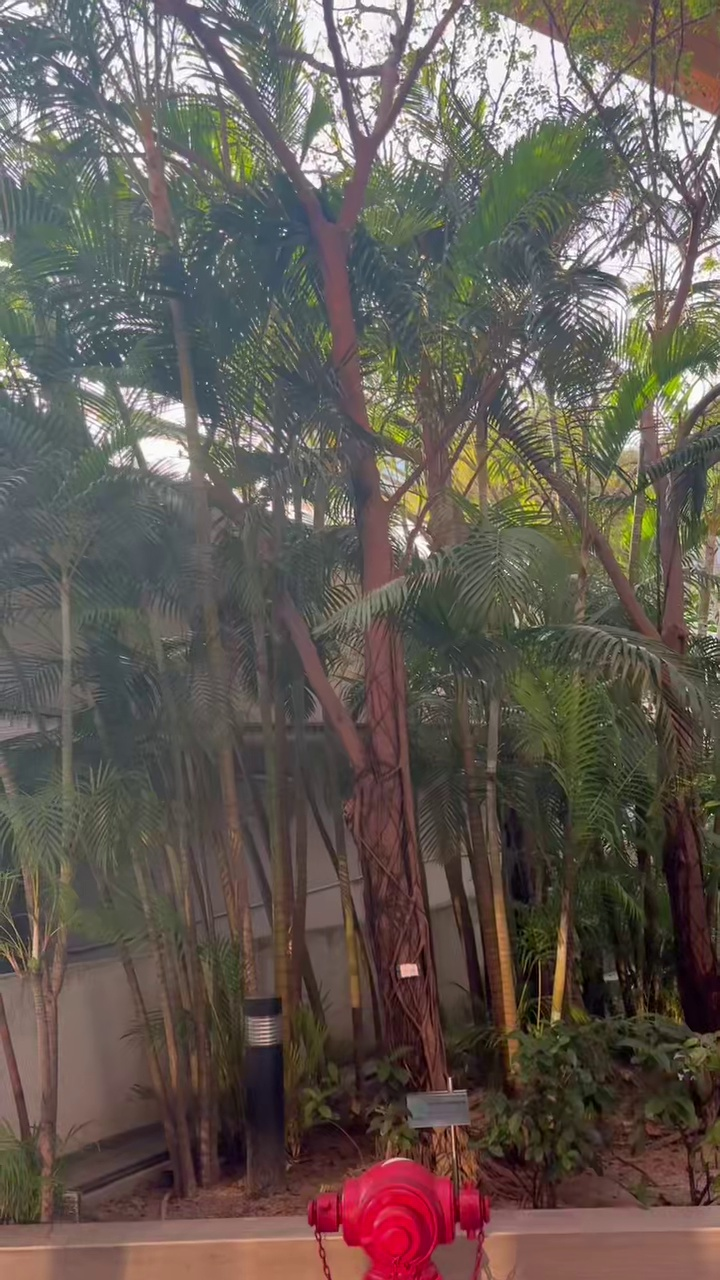Ficus benjamina: (173, 0, 446, 1089)
